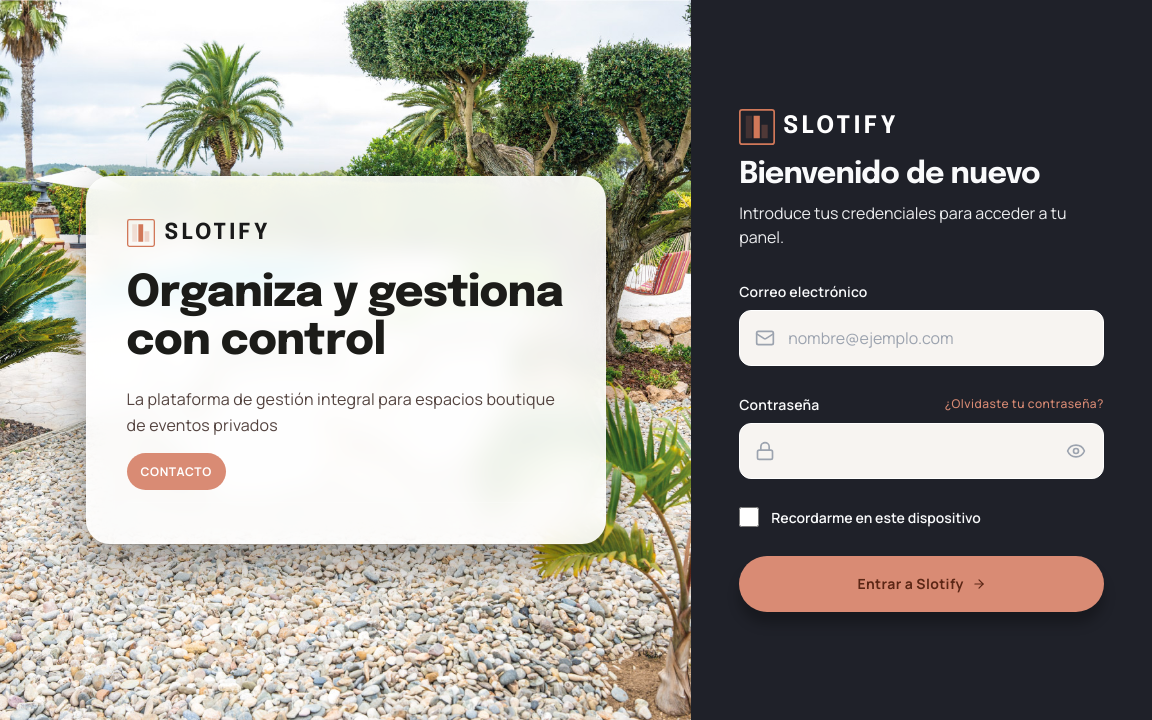
Test: LoginPage — validación por campo sin llamar a la API (REQ 9) › debe_bloquear_el_envio_y_mostrar_error_cuando_email_y_password_estan_vacios
Click the button "Entrar a Slotify".
click(922, 584)  # box [739,556,1104,612]
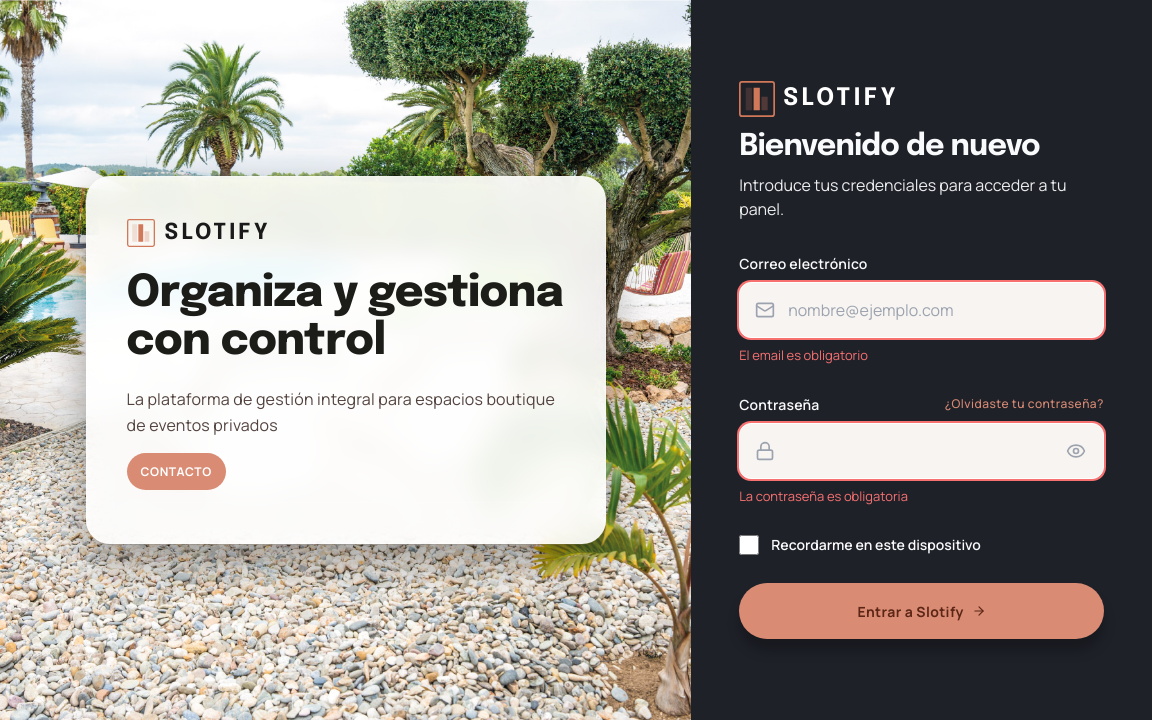
Expected: the text "El email es obligatorio" is shown, [739,346,868,364]
Expected: the text "La contraseña es obligatoria" is shown, [739,486,908,504]
